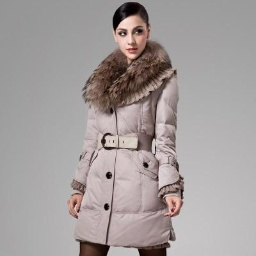face: (107, 2, 159, 63)
